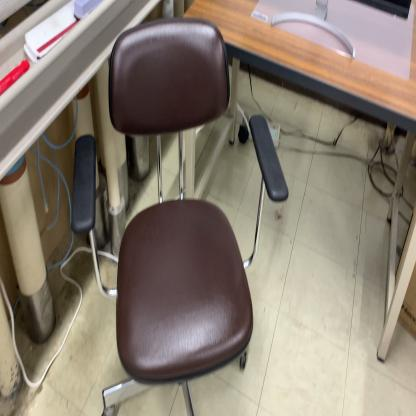chair: (69, 15, 290, 416)
